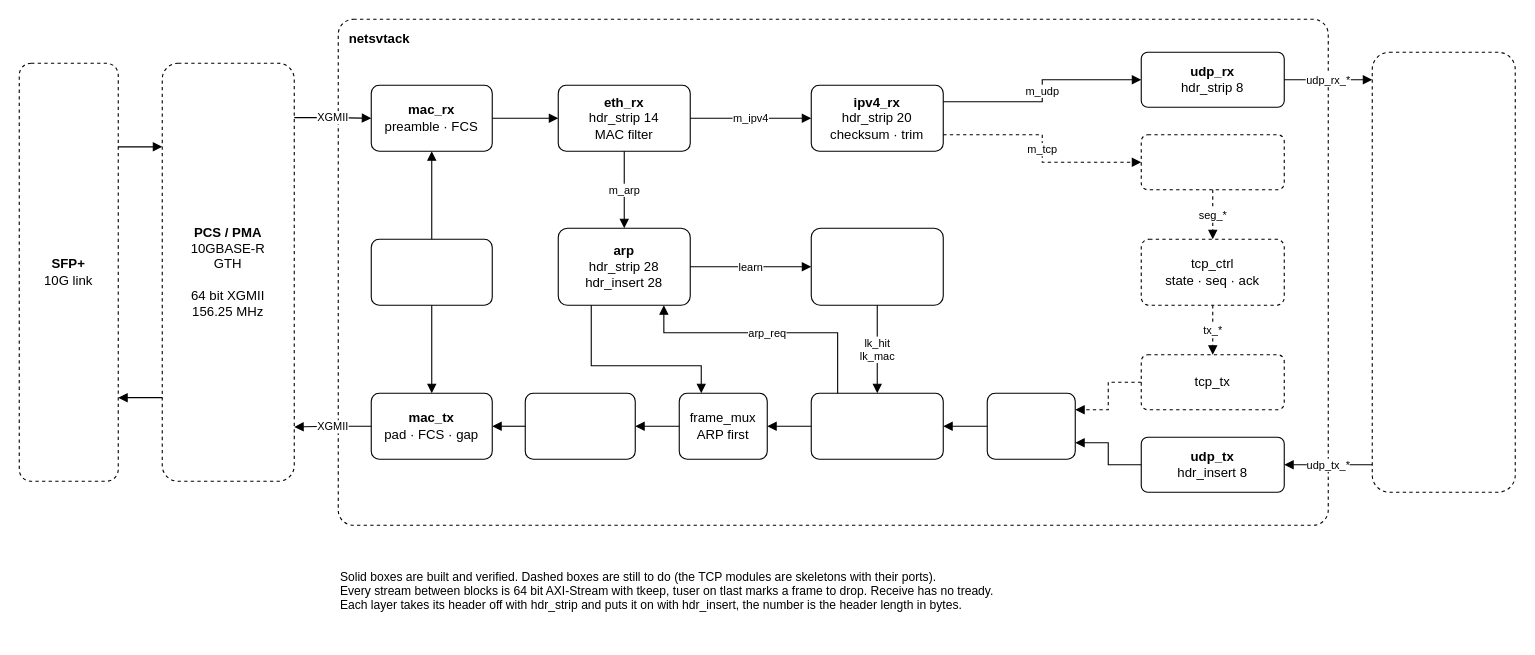
The diagram is 1535 pixels wide and 655 high, and some of its shapes have lost their labels. Here are the shapes that lost their labels. From the top down, the centre of each, then its label:
point (1212, 162): tcp_rx
point (431, 271): crc32
point (876, 266): arp_cache 8 entries
point (1443, 271): application streams loopback for the round trip measurement
point (579, 425): eth_tx hdr_insert 14
point (876, 425): ipv4_tx hdr_insert 20 checksum
point (1030, 425): frame_mux TCP first
